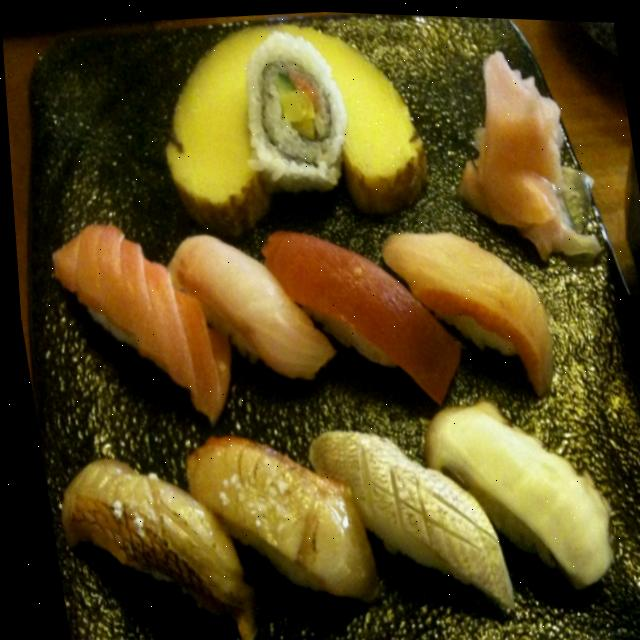寿司卷物: (9, 166, 627, 639)
